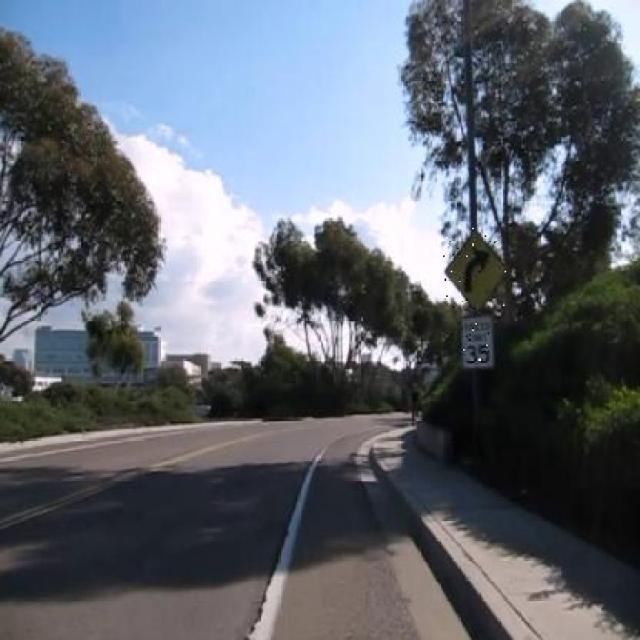speedLimit35: (460, 316, 494, 370)
turnRight: (443, 228, 507, 312)
